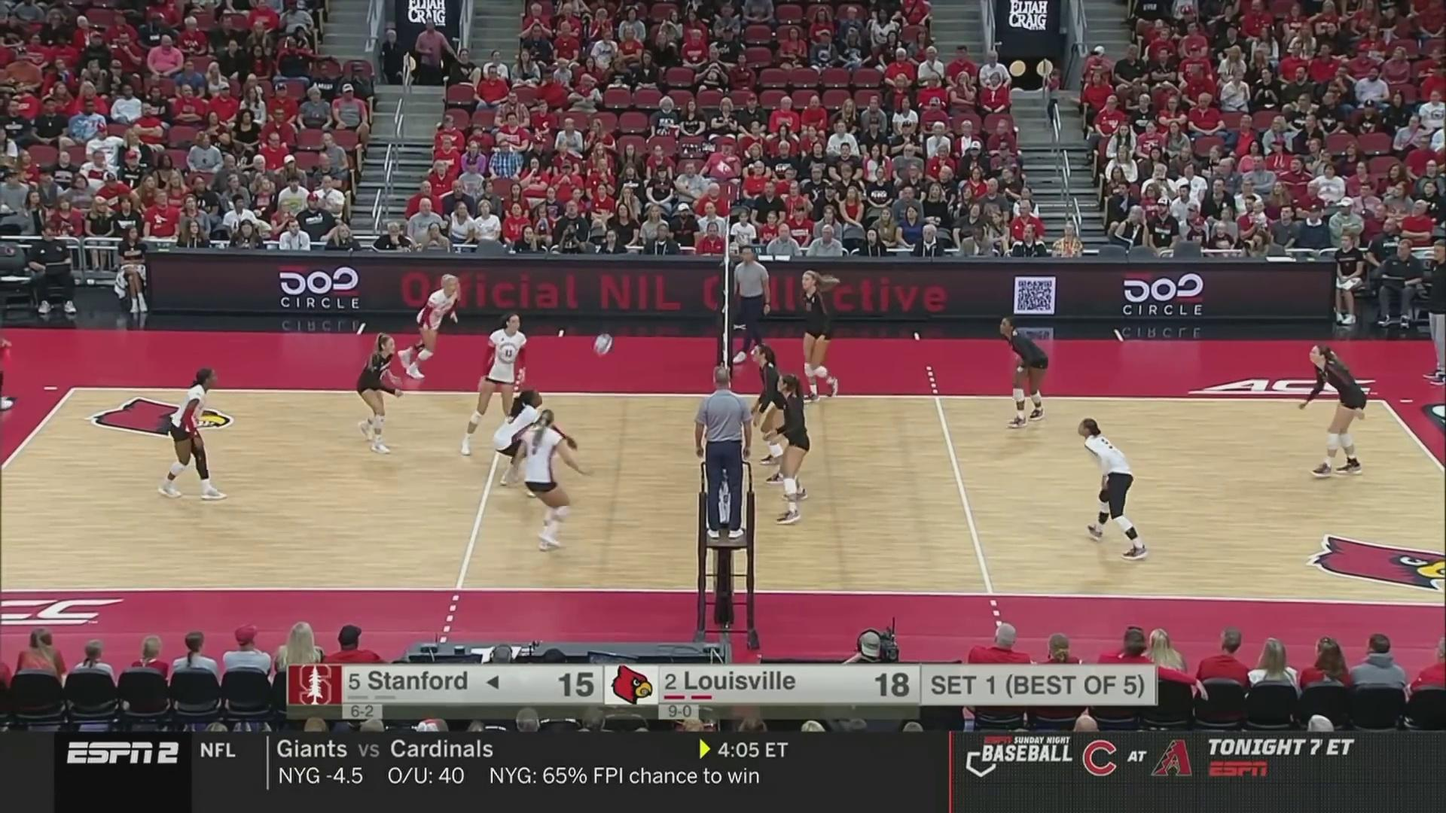player: (462, 310, 535, 454), (520, 409, 591, 547), (1078, 420, 1147, 558), (1298, 345, 1369, 477), (492, 388, 577, 496), (159, 364, 224, 498), (767, 372, 813, 524), (398, 275, 459, 379), (752, 345, 796, 484), (354, 332, 404, 452), (800, 269, 842, 403), (999, 318, 1050, 426)
refree: (694, 368, 756, 537), (729, 246, 770, 361)
